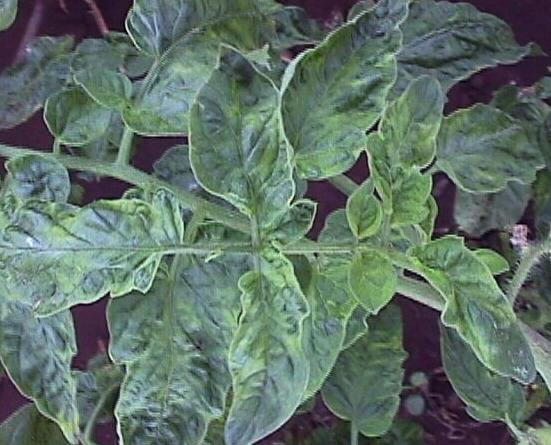Tomato leaf mosaic virus: (286, 0, 419, 186), (0, 195, 178, 314), (189, 44, 297, 234), (411, 237, 537, 391), (223, 257, 313, 445), (126, 291, 212, 445), (370, 72, 443, 227), (435, 107, 551, 193), (349, 245, 399, 316), (77, 61, 135, 108)
